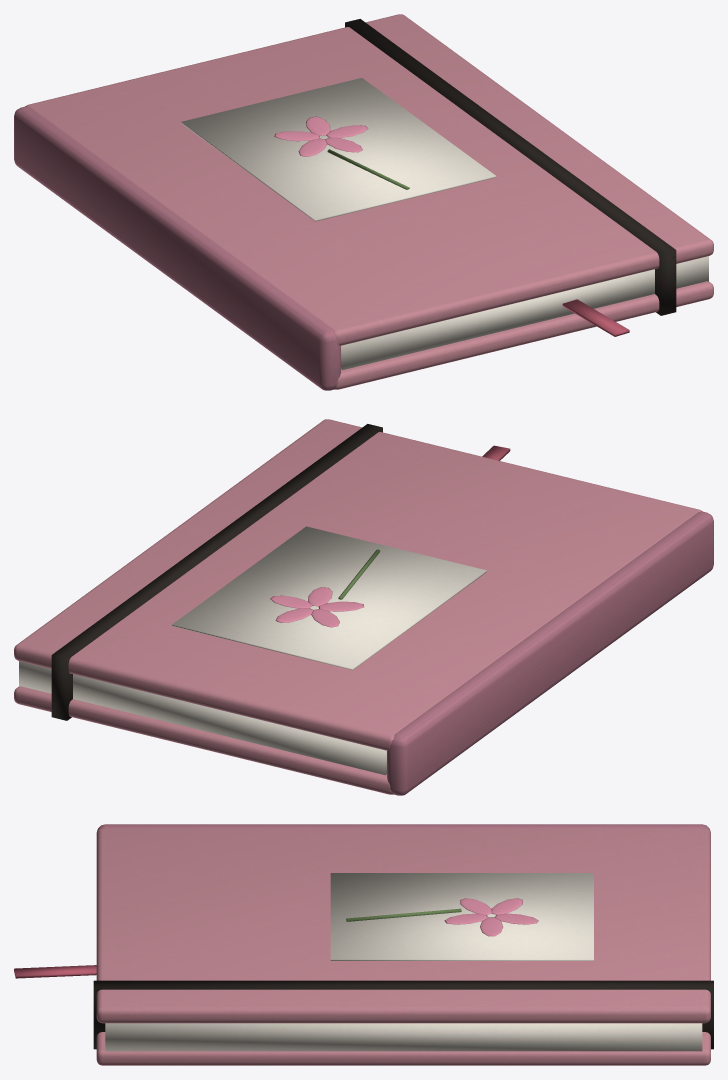
File: keepsake-notebook.glb
3 renders of one model, top to bottom at view 1: azimuth 30°, elevation 25°; view 2: azimuth 150°, elevation 25°; view 3: azimuth 270°, elevation 25°, orthographic.
Visible parts, largest first — view 1: keepsake-notebook; view 2: keepsake-notebook; view 3: keepsake-notebook.
Boxes of the visible parts, box(x1,y1,x2,y2) form: keepsake-notebook: box(14, 14, 713, 390); keepsake-notebook: box(14, 419, 713, 795); keepsake-notebook: box(14, 824, 713, 1065).
Bounding box in the file's own units: 0.15 × 0.0238 × 0.2361.
1 material, 1 textured.
